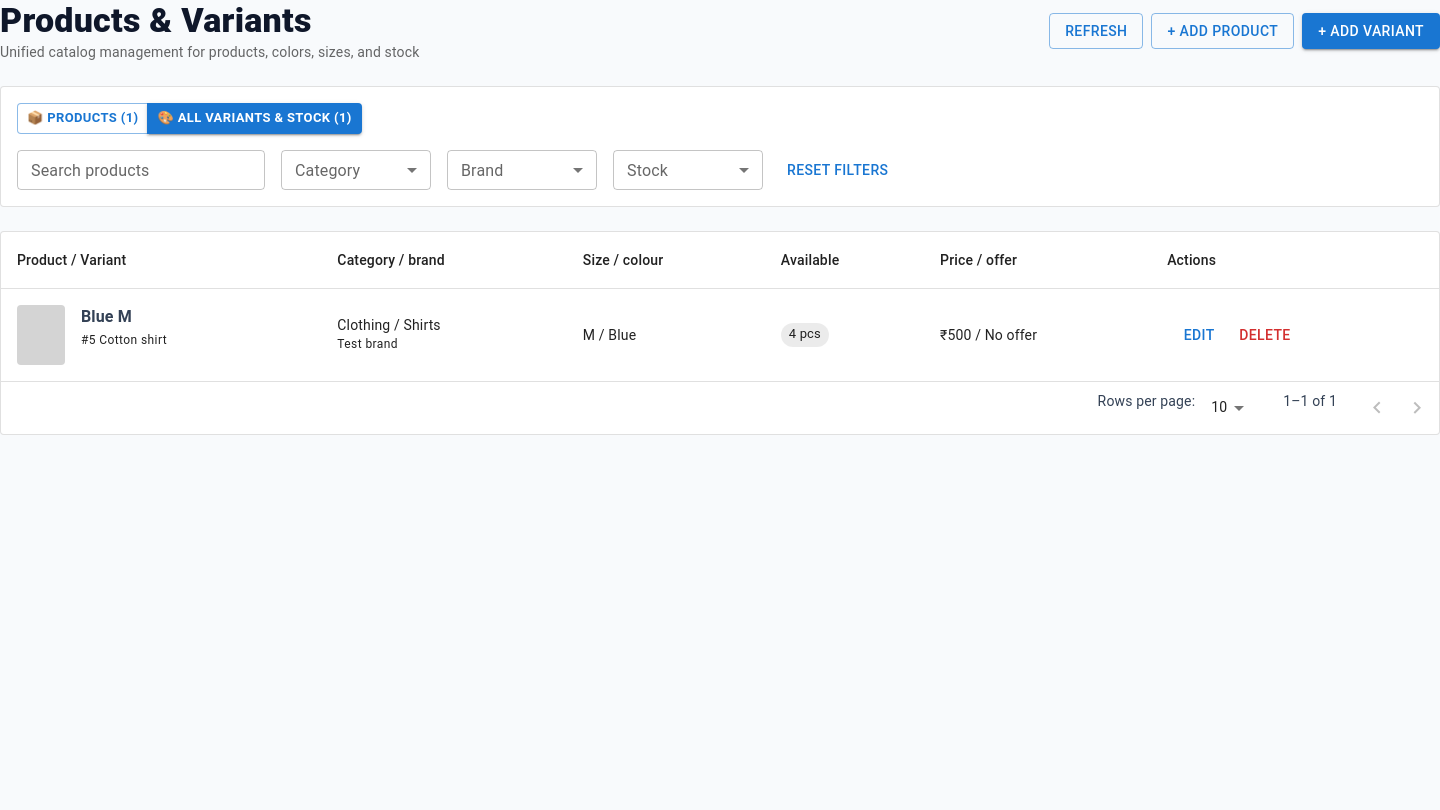
Test: existing variant loads hierarchy and submits zero offer with stock snapshot
Click the button "Edit" at (1199, 335), box [1167,316,1231,353]
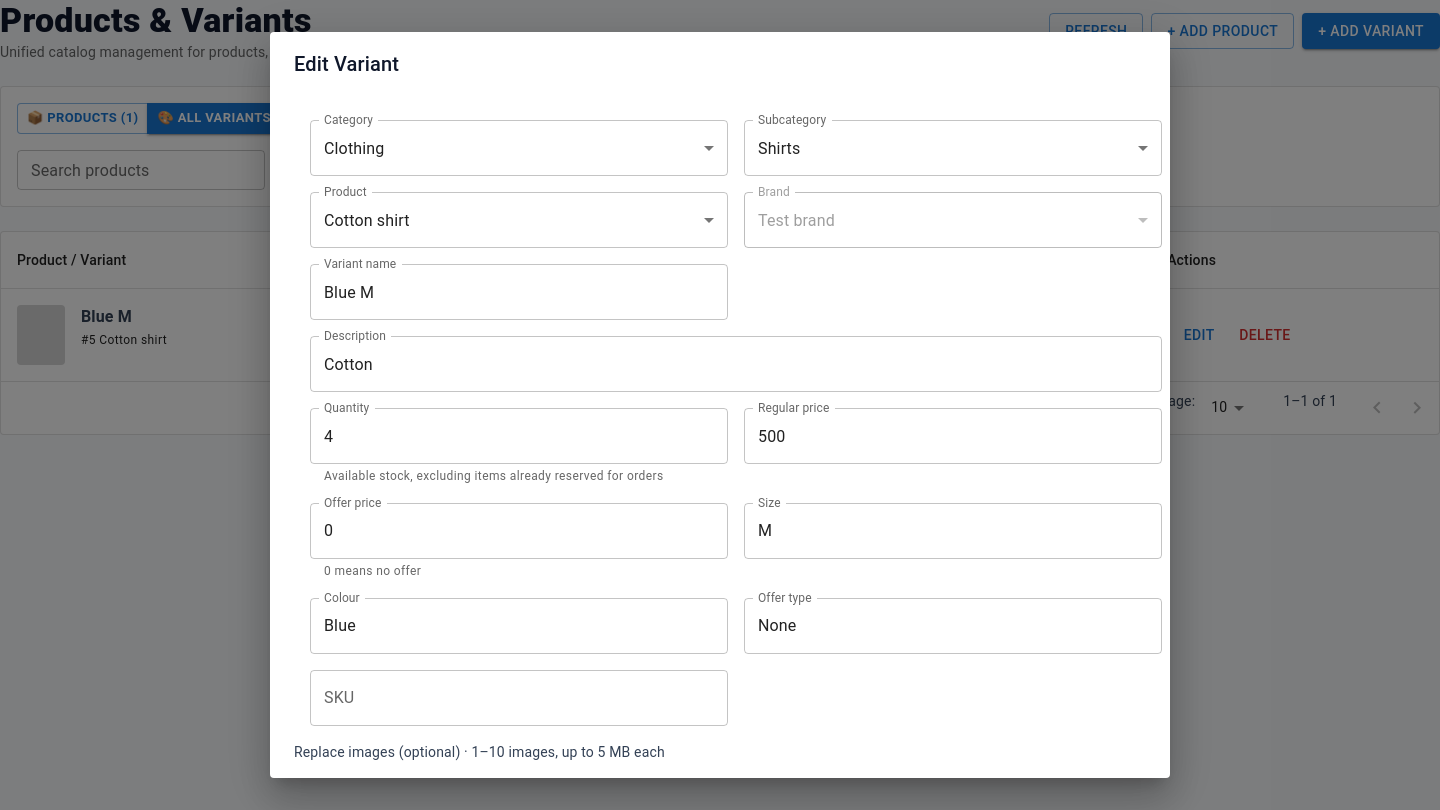
Check: the dropdown named "Product" reads "Cotton shirt", box [324,210,410,230]
Replace the text in the number field labelled "Quantity" with "0" at (519, 436), box [310,408,728,464]
(page scrolled)
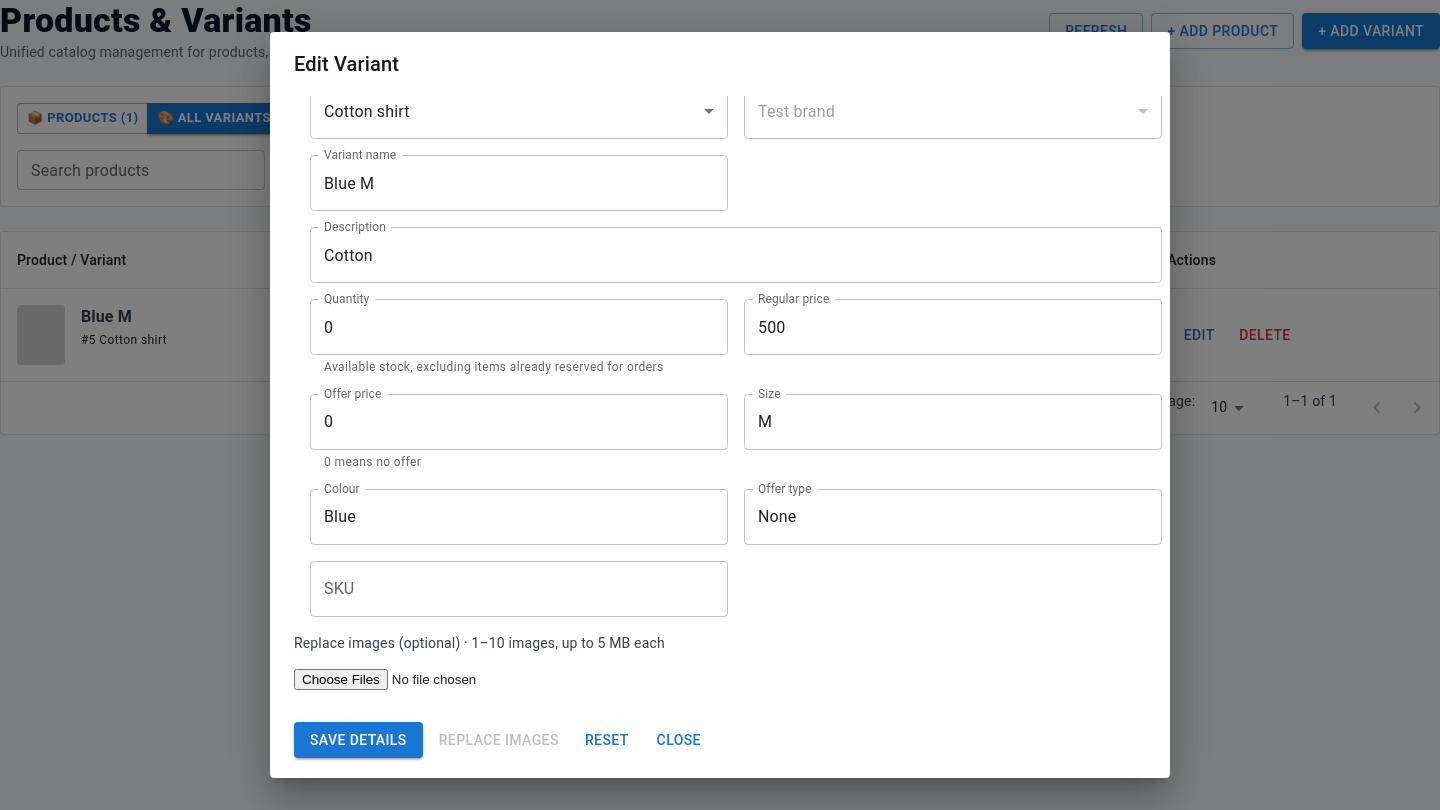
Click the button "Save details" at (358, 740), box [294,722,423,758]
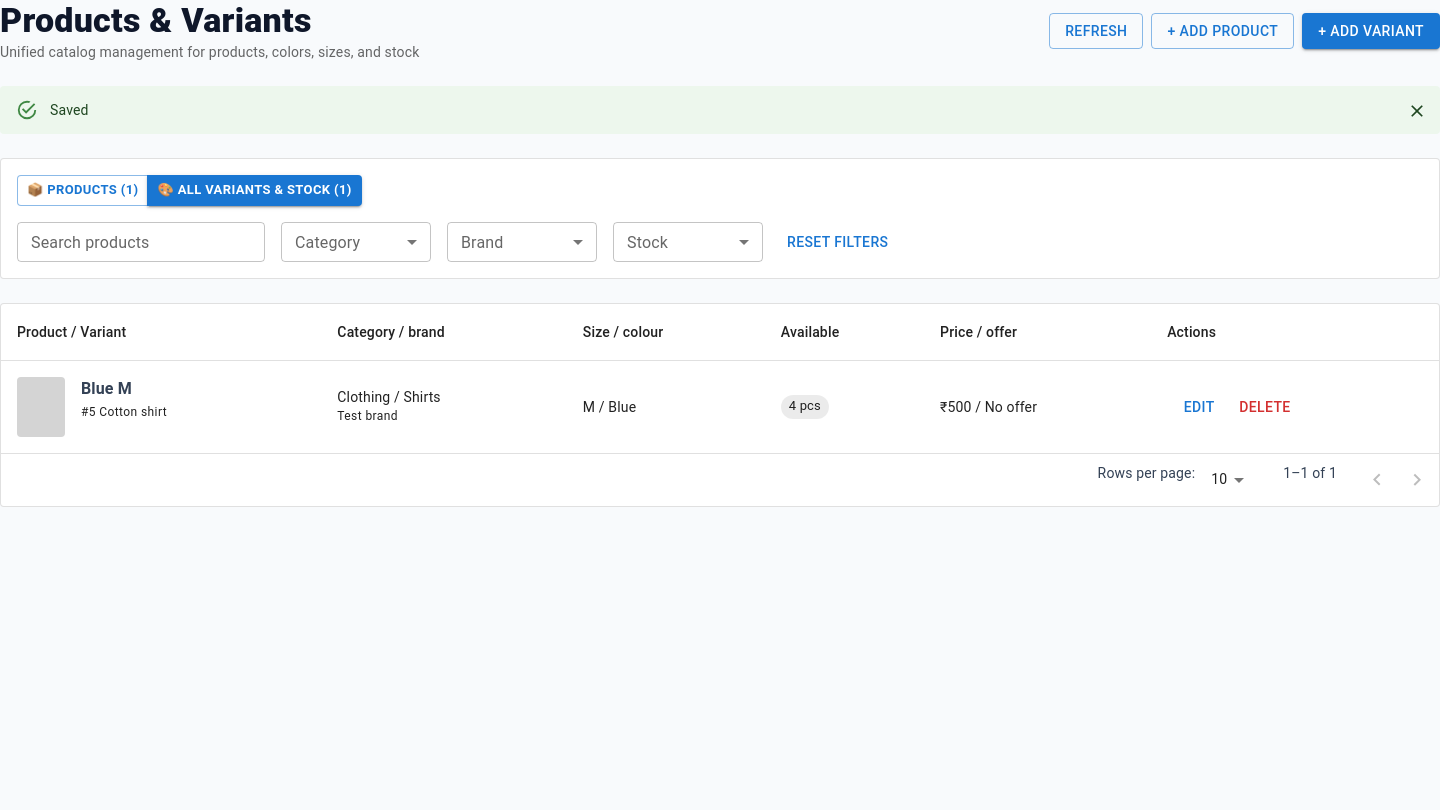
Check: the text "Saved" is shown, box [50,102,89,118]
